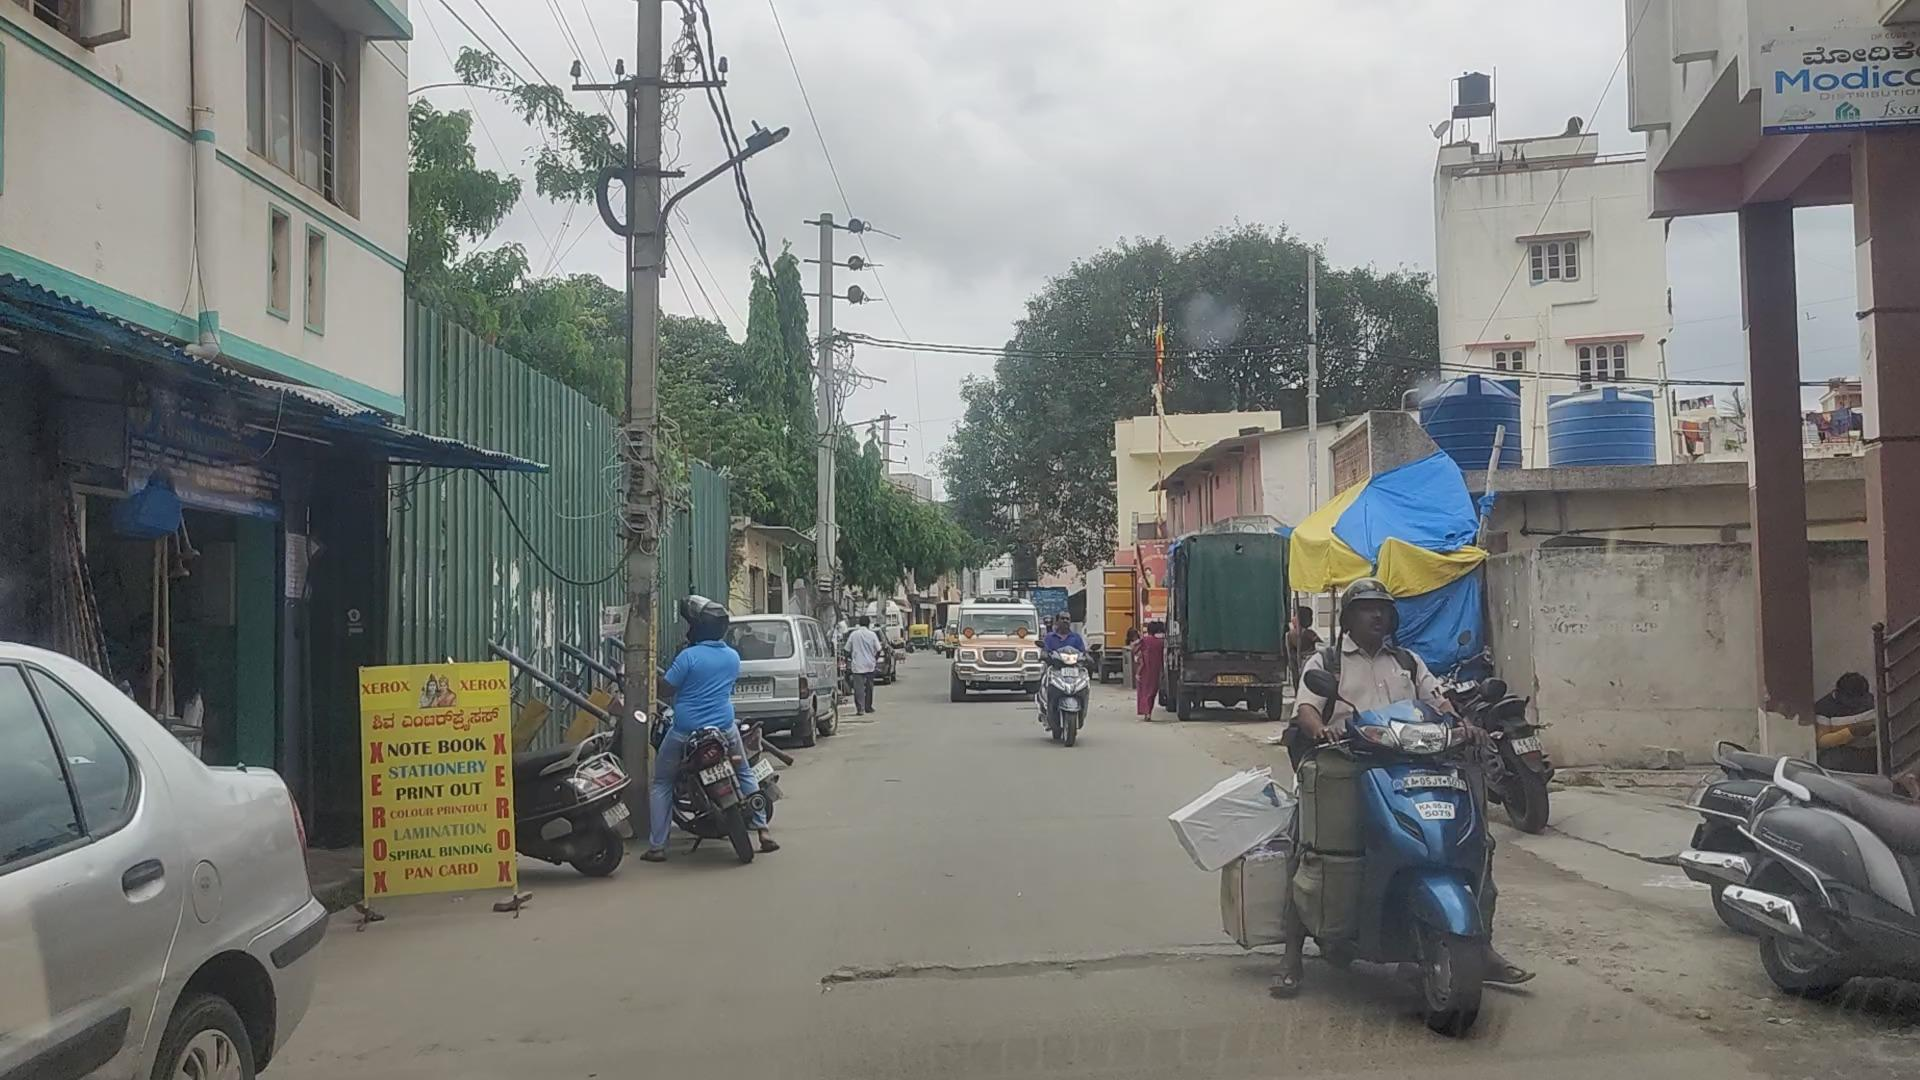LMV: (647, 592, 769, 870), (1038, 611, 1091, 746)
RoadDamages: (824, 926, 1232, 1005)
